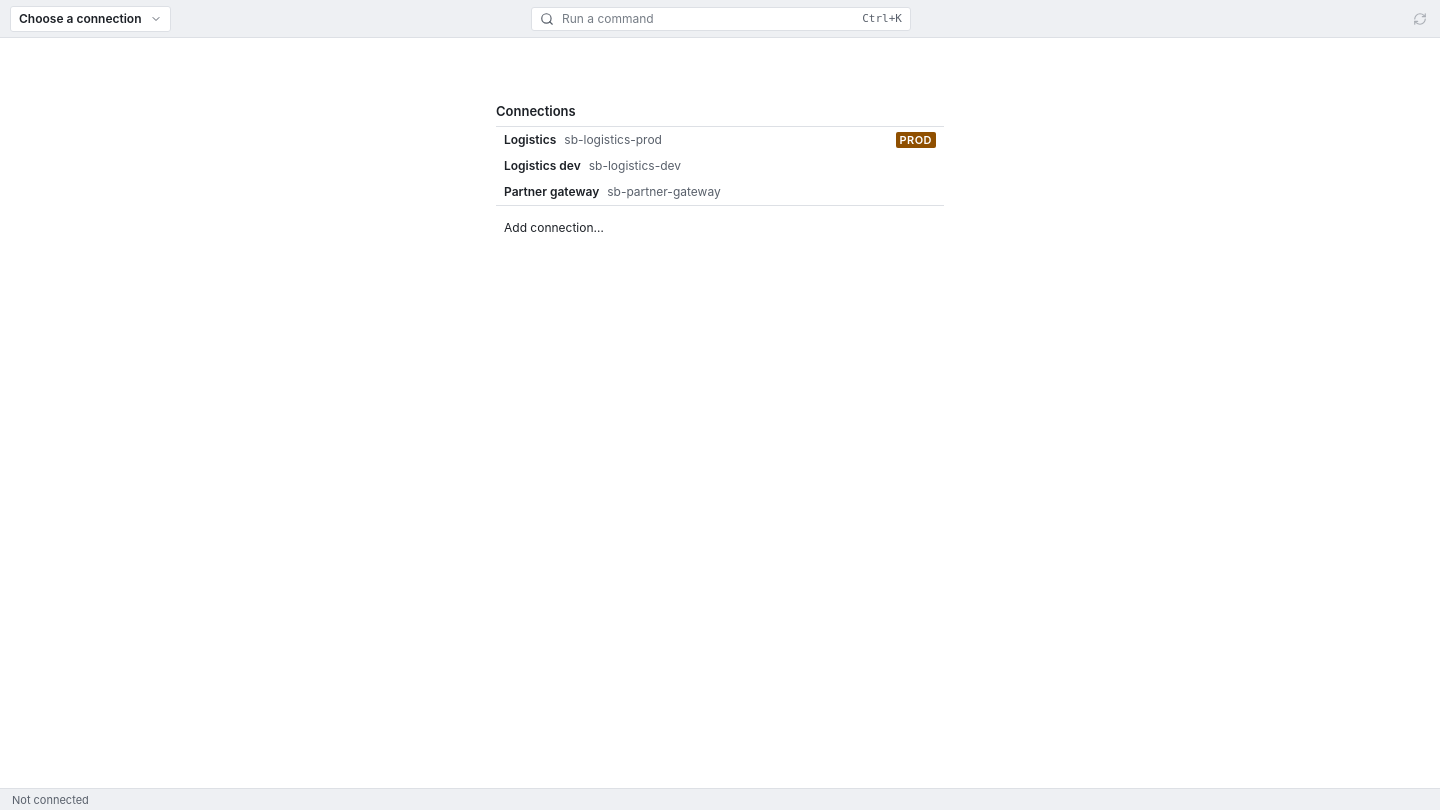
Scenario: ProfileSheet › edits without ever showing the stored secret, tests, and deletes after confirming
Click the button with aria-label "Connection: Choose a connection" at x=90, y=18, box x1=10 y1=6 x2=170 y2=32
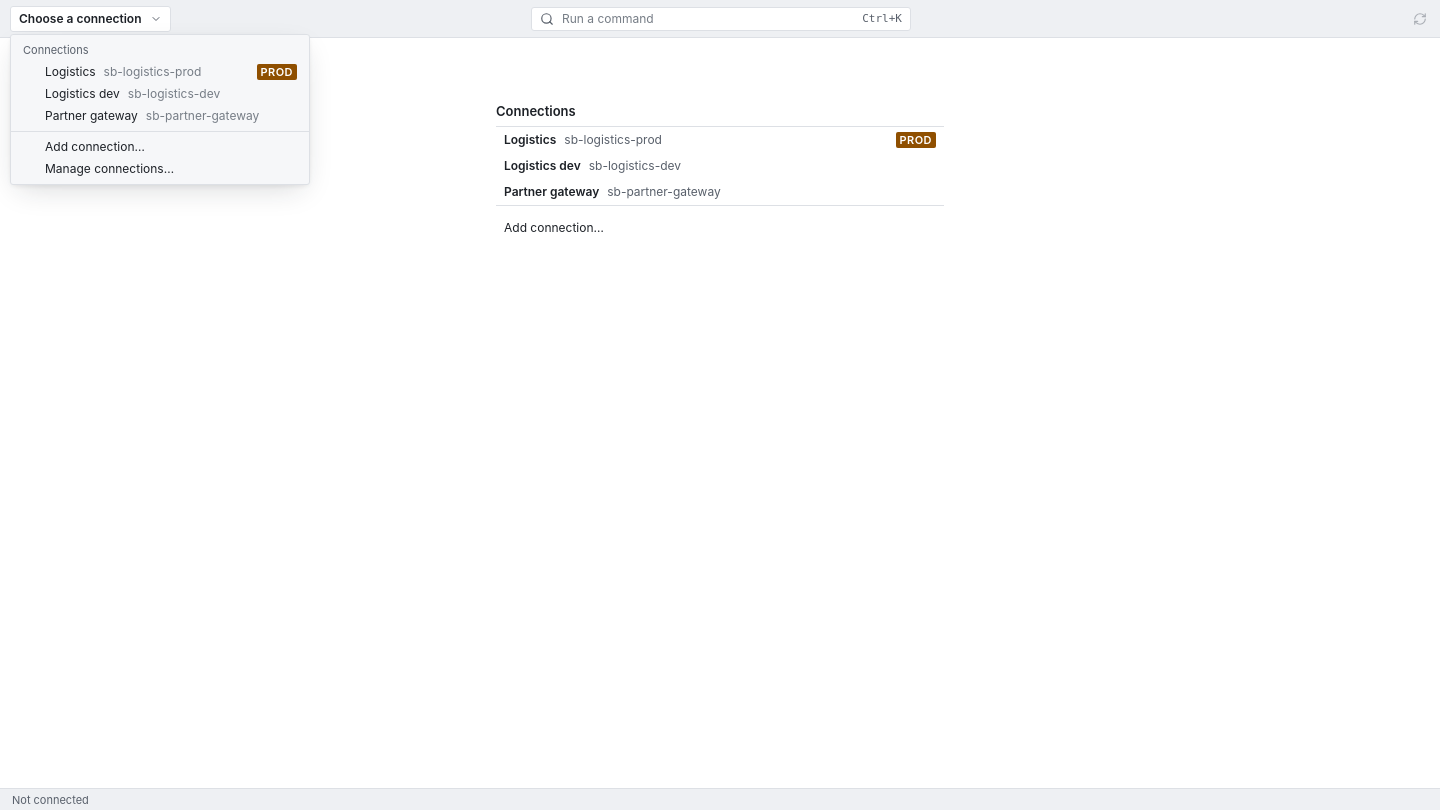
Click the menu item "Manage connections…" at x=110, y=168, box x1=45 y1=161 x2=174 y2=176
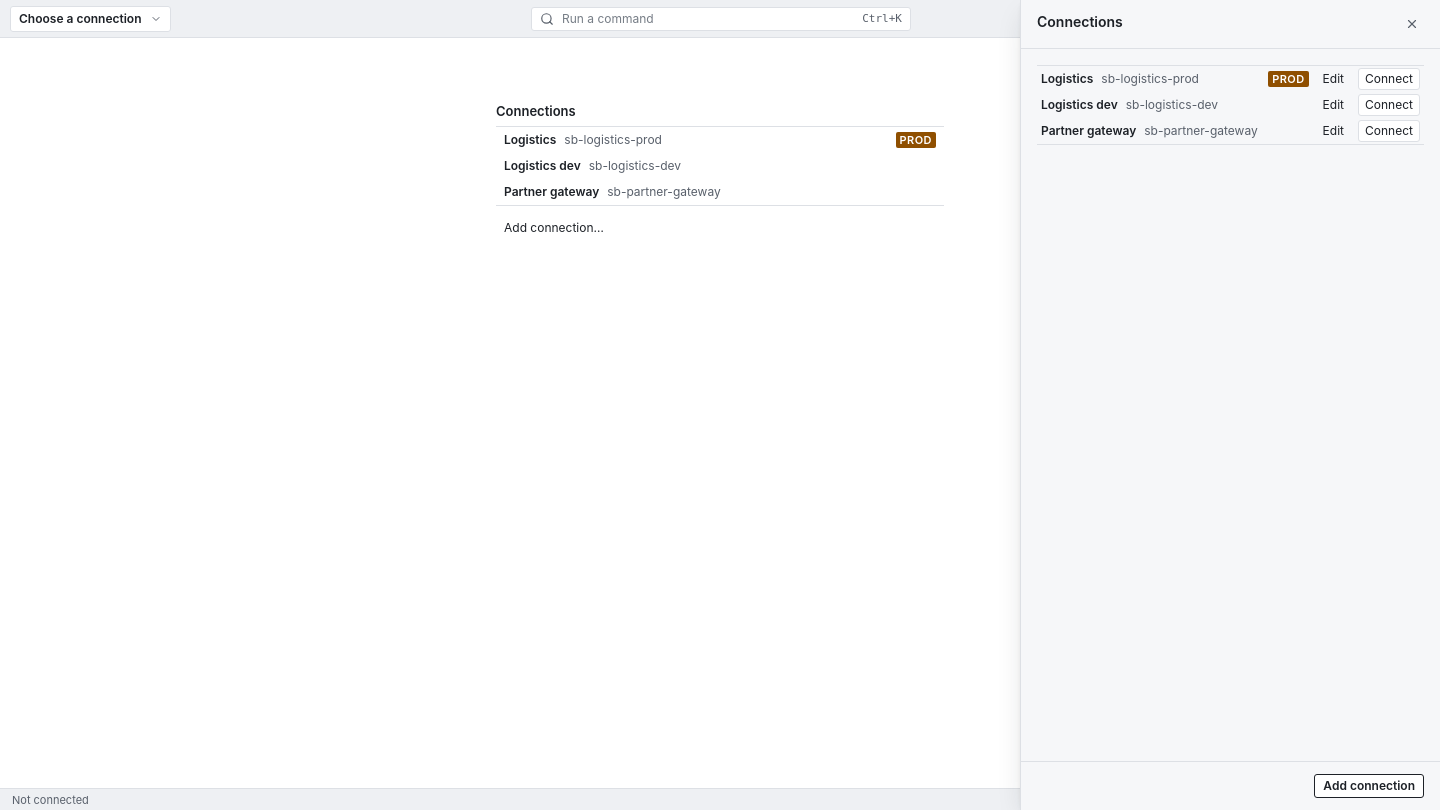
Click the button with aria-label "Edit Logistics" at x=1333, y=79, box x1=1317 y1=68 x2=1350 y2=90
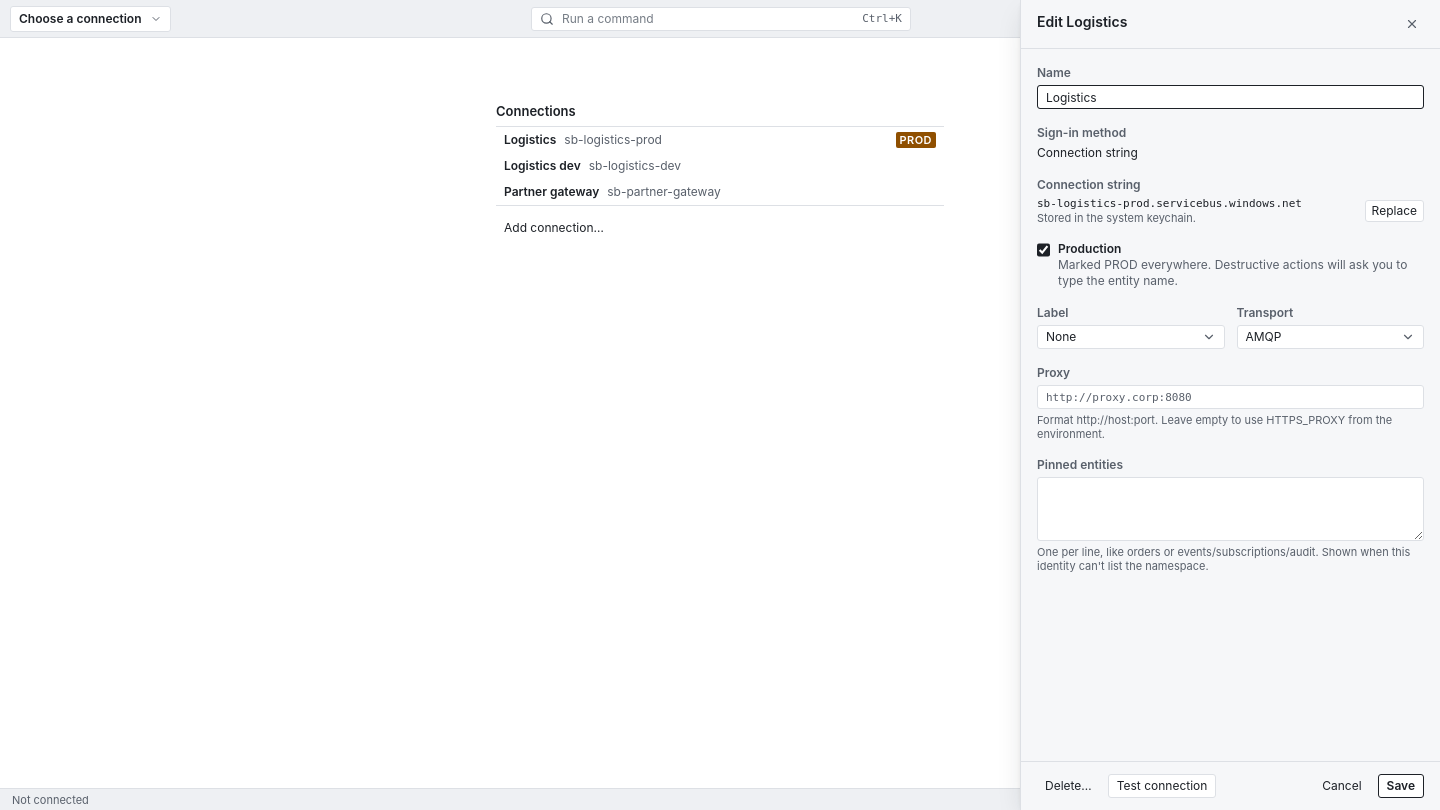
Expected: the text "Connection string" is shown 2 times, x1=1037 y1=145 x2=1138 y2=160; x1=1037 y1=177 x2=1141 y2=192
Expected: the text "Stored in the system keychain." is shown, x1=1037 y1=211 x2=1196 y2=225
Click the button "Test connection" at x=1162, y=786, box x1=1108 y1=774 x2=1216 y2=798
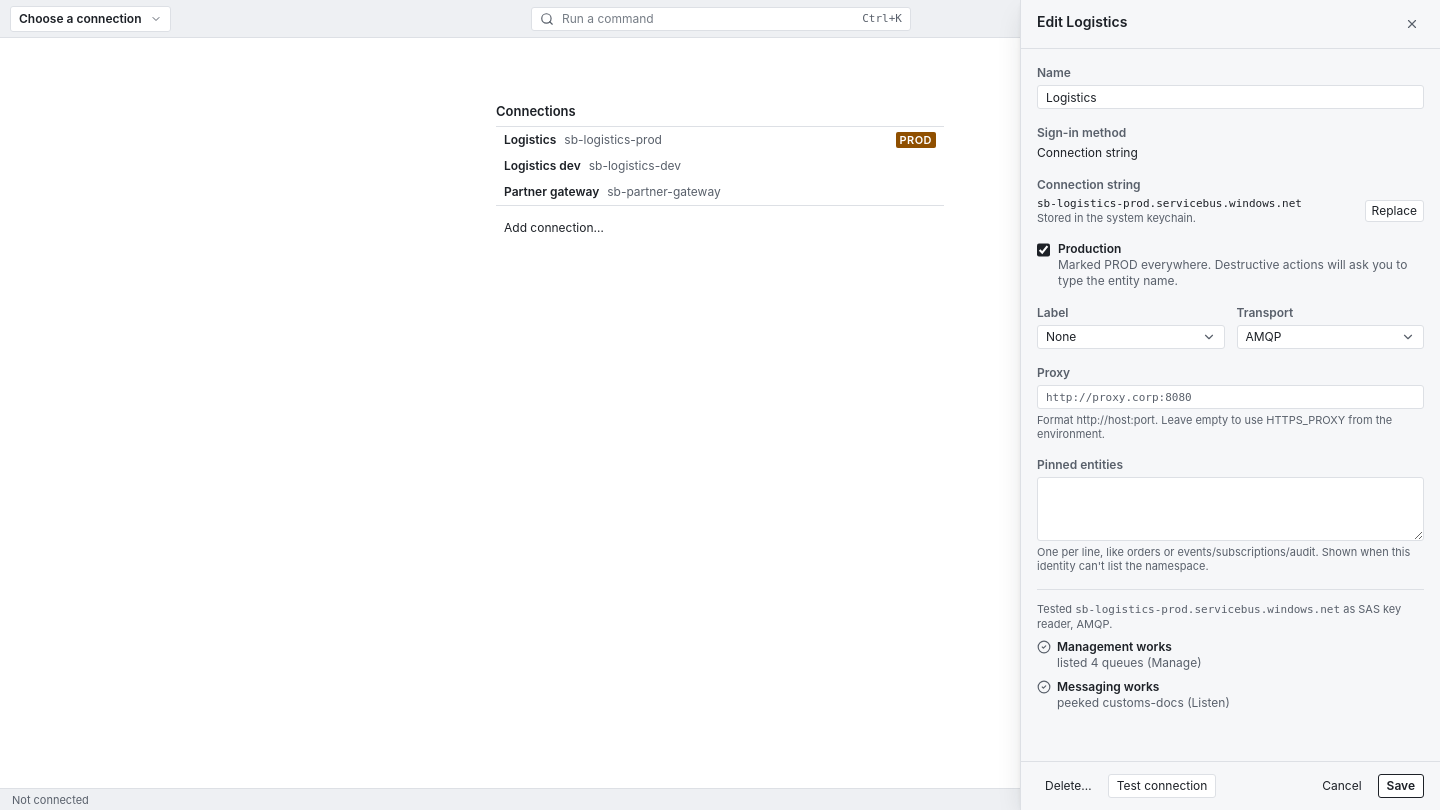
Expected: the text "Management works" is shown, x1=1057 y1=639 x2=1172 y2=654
Expected: the text "Messaging works" is shown, x1=1057 y1=679 x2=1159 y2=694
Expected: the text "listed 4 queues (Manage)" is shown, x1=1057 y1=655 x2=1202 y2=671
Click the button "Delete…" at x=1068, y=786, box x1=1037 y1=774 x2=1100 y2=798
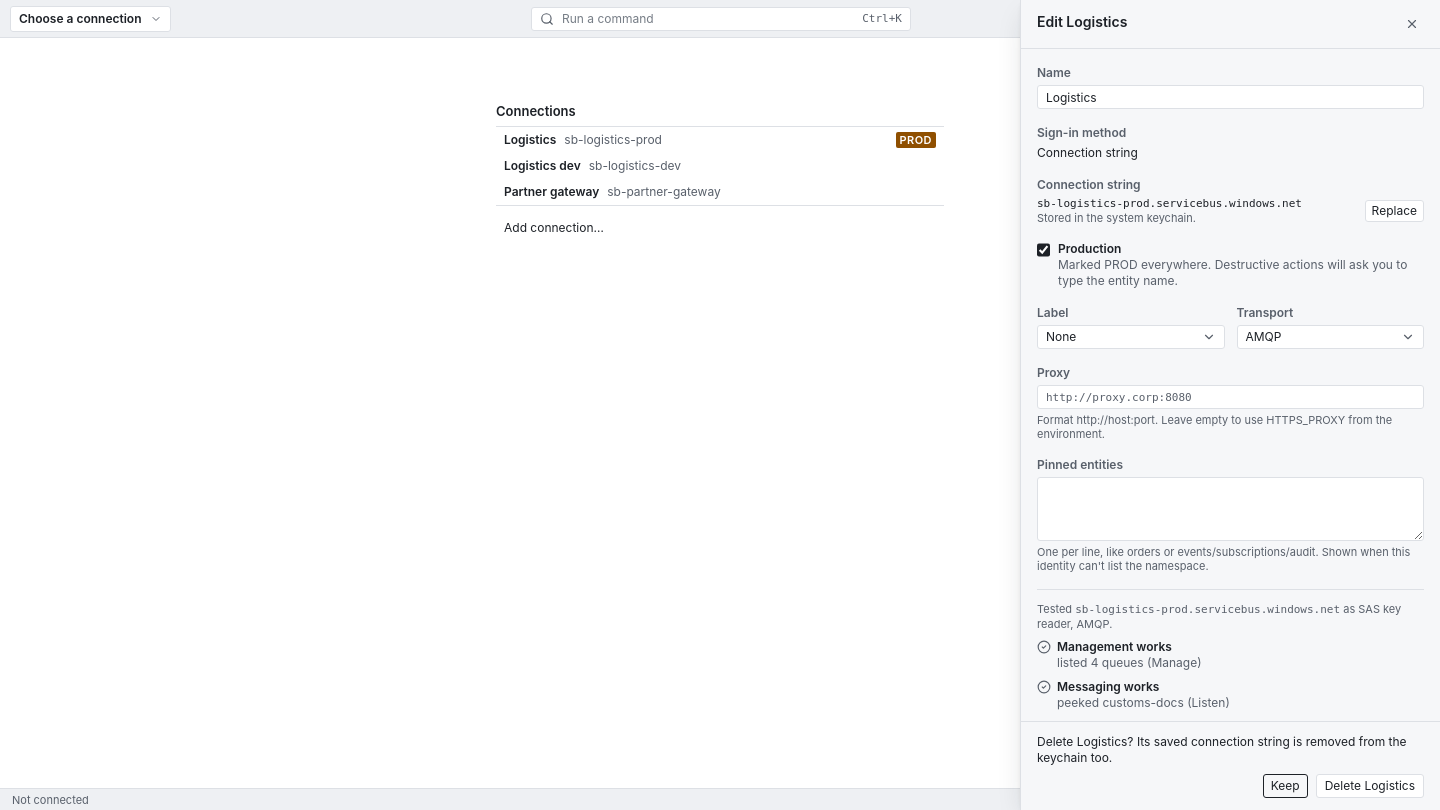
Click the button "Delete Logistics" at x=1370, y=786, box x1=1316 y1=774 x2=1424 y2=798
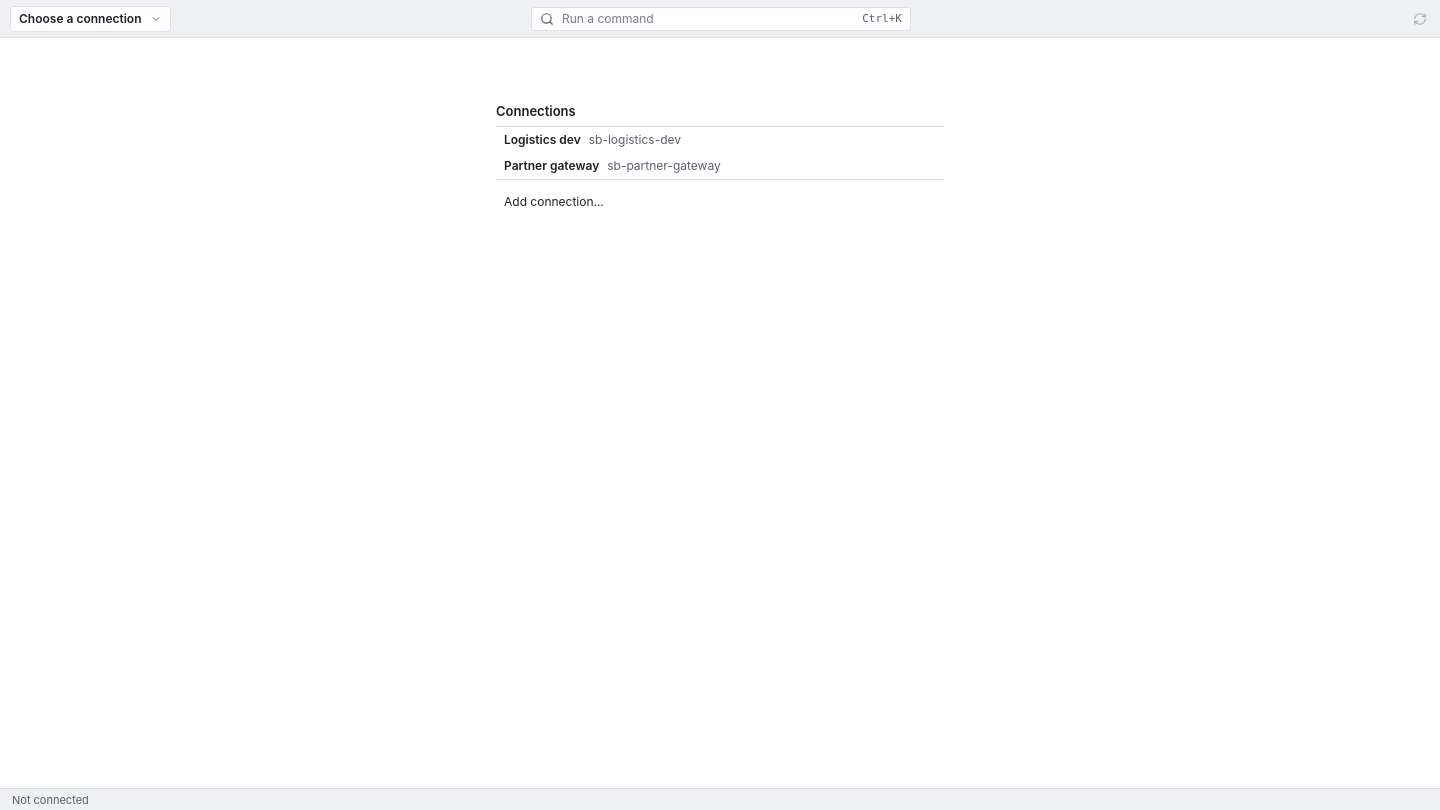
Expected: the heading "Edit Logistics" is gone
Expected: the button "Logistics sb-logistics-prod PROD" is gone
